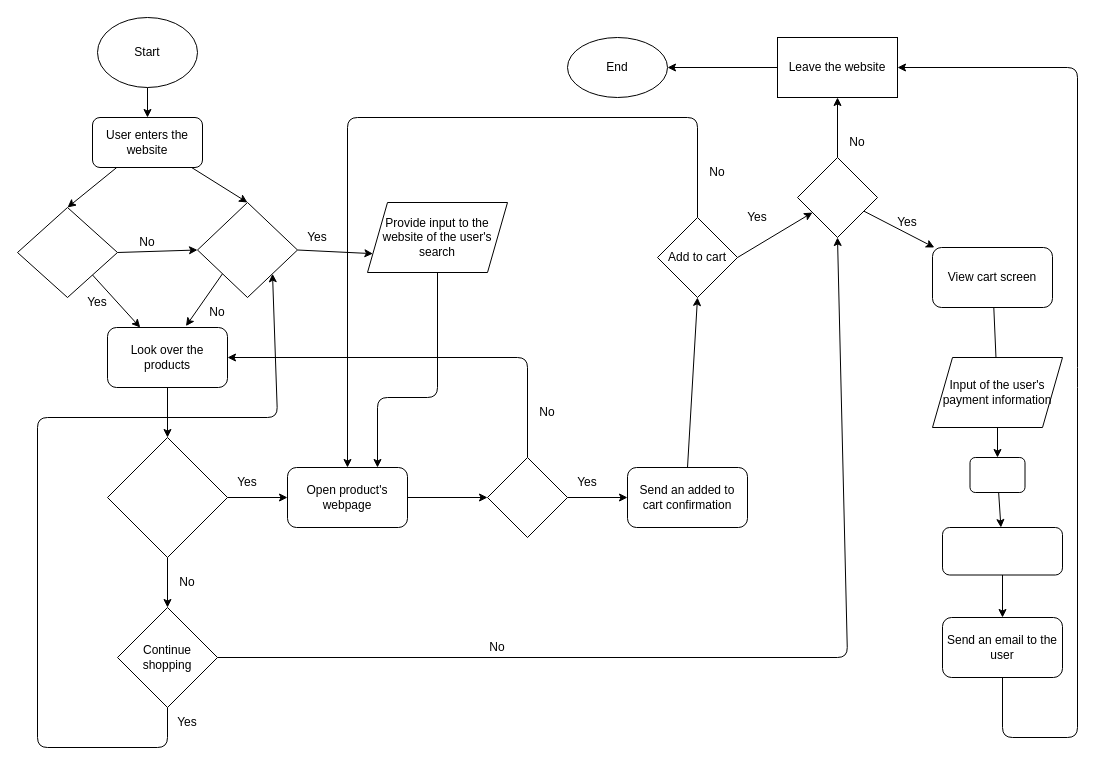
Some shapes in this 1103 by 773 pixel diagram are drawn without their labels. Each missing label, with the centre of its shape:
"Adding decision" goes at (x=527, y=497).
"Checkout" goes at (x=837, y=197).
"Explore the products" goes at (x=67, y=252).
"Order confirmation" goes at (x=1002, y=550).
"Pay" goes at (x=997, y=474).
"Searching for a product" goes at (x=247, y=250).
"Viewing a specific product" goes at (x=167, y=497).
